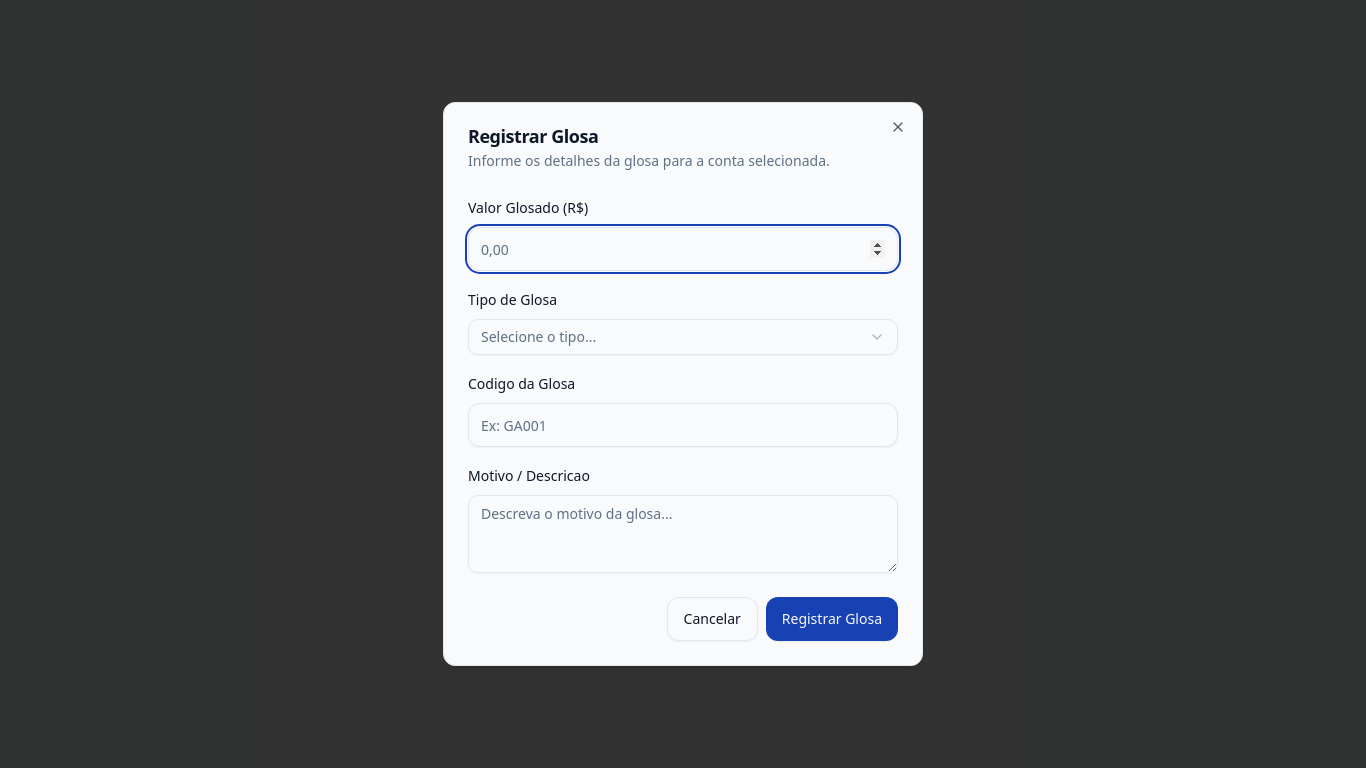
Test case: CreateGlosaModal › validates empty amount
Click the button "Registrar Glosa".
click(832, 619)  # box top-left (766, 597), bottom-right (898, 641)
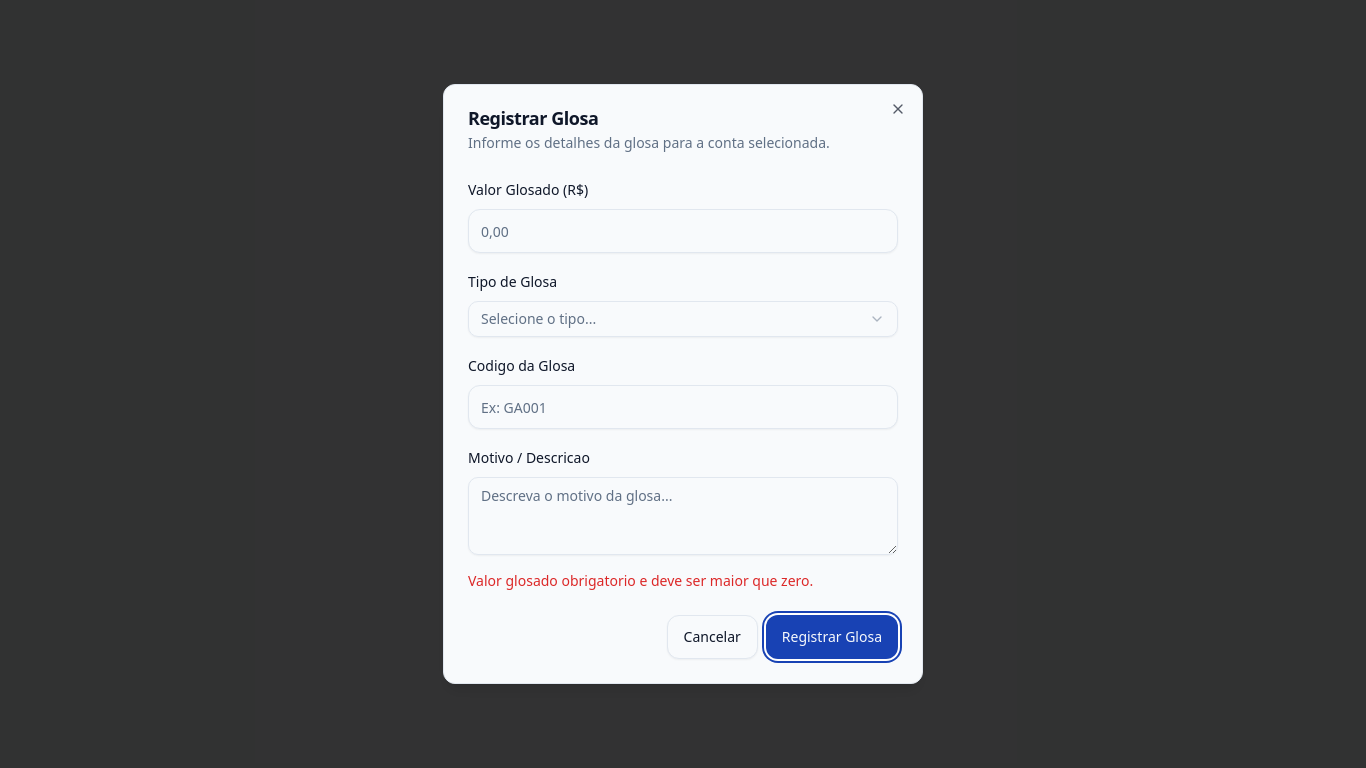
expect the text "Valor glosado obrigatorio e deve ser maior que zero." is shown: met, box top-left (468, 571), bottom-right (813, 590)
